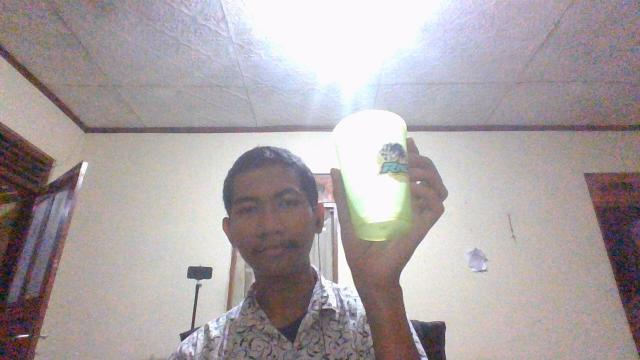botol-hijau: (329, 108, 415, 243)
